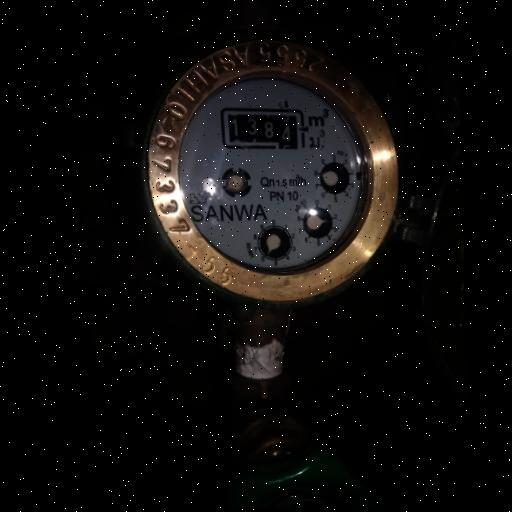1: (226, 114, 245, 142)
3: (243, 112, 261, 141)
4: (277, 114, 297, 149)
8: (260, 114, 279, 143)
border_water_meter_number: (218, 105, 311, 151)
